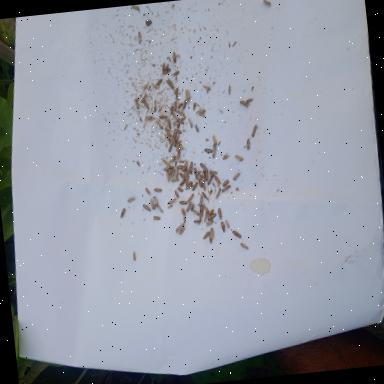pbw: (206, 174, 216, 186), (250, 123, 258, 137), (197, 191, 204, 207), (231, 230, 242, 240), (165, 77, 174, 89), (156, 118, 164, 130), (214, 187, 222, 199), (214, 174, 222, 186), (190, 178, 198, 190), (185, 201, 193, 212), (166, 141, 174, 152), (194, 167, 200, 181), (188, 161, 194, 175), (190, 209, 200, 217), (186, 192, 194, 202), (202, 204, 210, 214), (232, 170, 240, 180), (162, 158, 170, 168), (240, 100, 250, 108), (212, 145, 218, 158), (165, 126, 172, 137), (234, 154, 243, 162), (209, 227, 215, 239), (142, 204, 151, 212), (134, 98, 140, 110), (207, 213, 217, 220), (201, 191, 208, 201), (177, 116, 184, 126), (181, 100, 188, 110), (142, 82, 149, 92), (187, 117, 193, 128), (172, 100, 178, 111), (120, 208, 126, 219), (211, 135, 217, 146), (201, 169, 206, 182), (178, 180, 186, 188), (176, 108, 184, 116), (222, 152, 230, 160), (222, 178, 230, 186), (155, 78, 163, 86), (202, 231, 210, 239), (240, 243, 249, 250), (205, 219, 214, 226), (200, 162, 207, 171), (180, 172, 186, 182), (172, 128, 182, 134), (222, 185, 232, 191), (172, 112, 178, 122), (174, 151, 180, 161), (184, 184, 194, 190), (165, 170, 170, 182), (178, 200, 188, 206), (170, 177, 180, 183), (144, 100, 150, 110), (162, 68, 172, 74), (156, 204, 162, 214), (195, 108, 205, 114), (174, 86, 179, 98), (185, 89, 190, 101), (184, 166, 190, 176), (169, 170, 175, 180), (217, 208, 222, 220), (246, 138, 251, 150), (221, 221, 226, 233), (152, 100, 157, 112), (202, 84, 210, 91), (207, 208, 214, 216), (140, 94, 147, 102), (199, 205, 204, 216), (137, 31, 142, 42), (127, 197, 136, 203), (204, 148, 213, 154), (167, 198, 176, 204), (175, 165, 179, 178), (225, 218, 230, 228), (153, 196, 158, 206), (174, 188, 179, 198), (161, 62, 166, 72), (203, 212, 208, 222), (168, 167, 175, 174), (184, 176, 190, 184), (145, 114, 153, 120), (150, 198, 154, 210), (180, 208, 186, 216), (172, 70, 180, 76), (173, 51, 177, 63), (176, 186, 184, 192), (176, 164, 184, 170), (172, 121, 180, 127), (172, 134, 176, 146), (204, 168, 208, 180), (164, 166, 172, 172), (132, 250, 136, 262), (194, 124, 199, 133), (164, 63, 170, 70), (152, 83, 158, 90), (198, 112, 205, 118), (152, 203, 158, 210), (198, 178, 202, 188), (198, 170, 202, 180), (210, 170, 218, 175), (184, 160, 188, 170), (170, 105, 174, 114), (174, 132, 178, 141), (208, 235, 212, 244), (202, 182, 206, 191), (153, 215, 160, 220), (194, 219, 201, 224), (168, 158, 175, 163), (154, 188, 162, 192), (192, 102, 196, 110), (168, 119, 171, 129), (158, 115, 168, 118), (246, 98, 253, 102), (145, 187, 149, 194), (186, 180, 193, 184), (176, 140, 182, 144), (178, 159, 184, 163), (178, 144, 182, 150), (178, 102, 182, 108), (167, 204, 173, 208), (175, 144, 180, 148), (228, 85, 230, 94), (184, 216, 186, 224), (176, 148, 180, 151)
